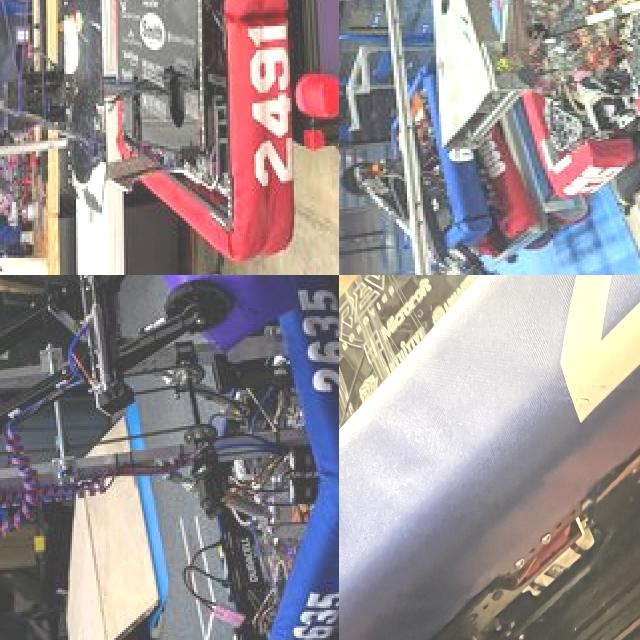FRC-Robots: (0, 275, 339, 640), (0, 0, 322, 275), (406, 0, 640, 196), (339, 56, 523, 275)
